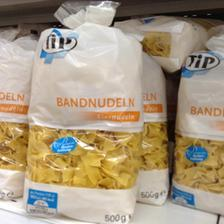Nudeln: (18, 1, 142, 223), (172, 48, 224, 216)
